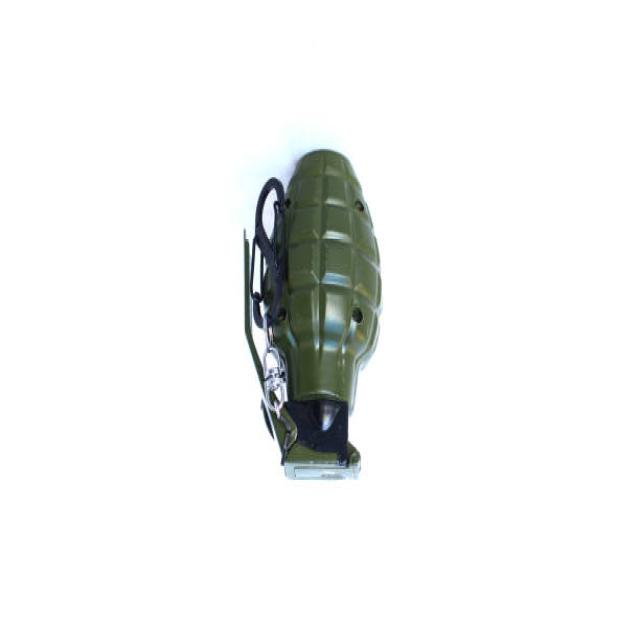grenade: (236, 146, 391, 502)
